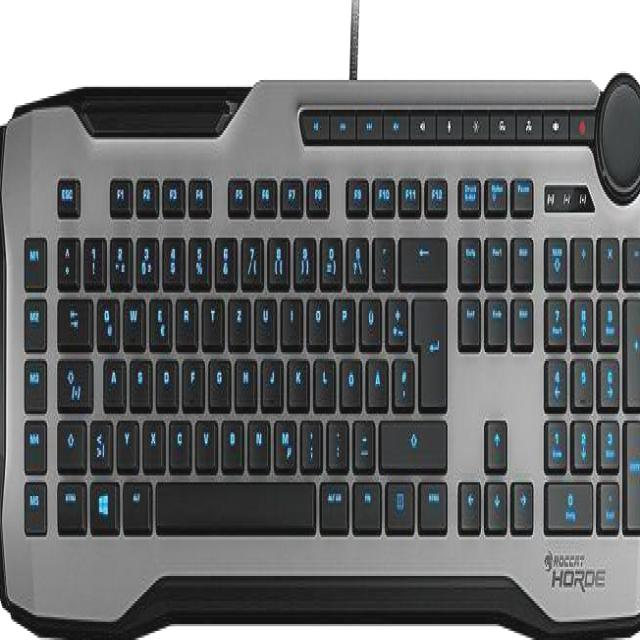0: (317, 229, 341, 281)
1: (81, 229, 105, 284)
2: (108, 229, 130, 284)
3: (133, 229, 157, 284)
4: (159, 229, 183, 284)
5: (186, 229, 208, 284)
6: (212, 229, 236, 284)
7: (239, 229, 261, 284)
8: (264, 229, 288, 284)
9: (291, 229, 315, 281)
a: (99, 350, 123, 405)
accent: (370, 229, 392, 281)
ae: (364, 350, 386, 405)
alt-left: (119, 471, 149, 528)
altgr-right: (317, 473, 347, 528)
b: (218, 412, 242, 464)
c: (166, 412, 188, 464)
caret: (55, 229, 77, 281)
comma: (297, 412, 319, 464)
d: (152, 350, 176, 405)
del: (397, 229, 445, 281)
e: (147, 288, 169, 343)
enter: (410, 286, 444, 405)
f: (179, 350, 201, 402)
g: (205, 350, 229, 405)
h: (232, 350, 254, 405)
hash: (389, 350, 411, 402)
i: (278, 289, 300, 341)
j: (258, 350, 280, 405)
k: (284, 350, 308, 405)
keyboard: (2, 76, 640, 622)
l: (311, 350, 333, 402)
less: (86, 412, 110, 467)
m: (271, 412, 293, 464)
minus: (350, 412, 372, 464)
n: (244, 412, 268, 467)
o: (304, 288, 326, 343)
oe: (337, 350, 359, 402)
p: (331, 289, 353, 341)
plus: (383, 289, 405, 341)
point: (324, 412, 346, 464)
q: (94, 288, 116, 343)
r: (173, 291, 195, 343)
s: (127, 350, 149, 402)
shift-left: (54, 412, 84, 467)
shift-lock: (53, 350, 91, 407)
shift-right: (376, 412, 444, 467)
space: (152, 473, 314, 528)
ss: (344, 229, 366, 281)
strg-left: (54, 473, 84, 528)
strg-right: (415, 473, 445, 528)
t: (200, 288, 222, 343)
tab: (54, 291, 90, 343)
u: (252, 288, 274, 343)
ue: (357, 288, 379, 343)
v: (193, 412, 215, 464)
w: (120, 288, 142, 343)
x: (140, 412, 162, 464)
y: (114, 412, 136, 464)
z: (225, 289, 247, 341)
